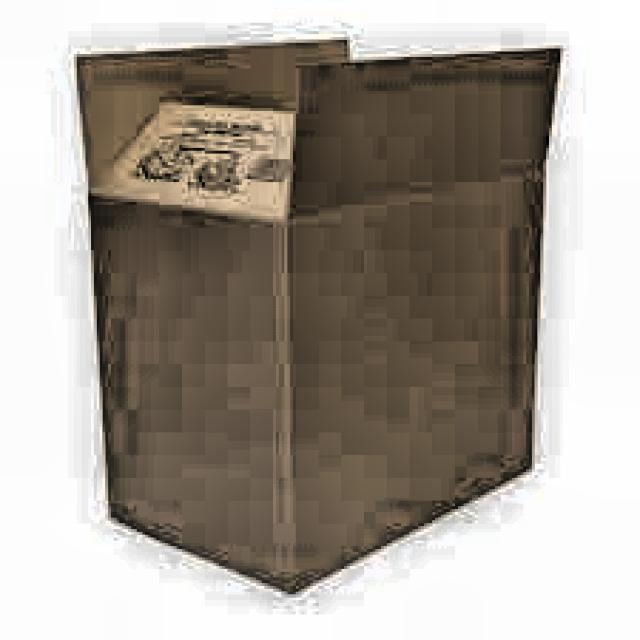cardboard: (71, 34, 563, 595)
